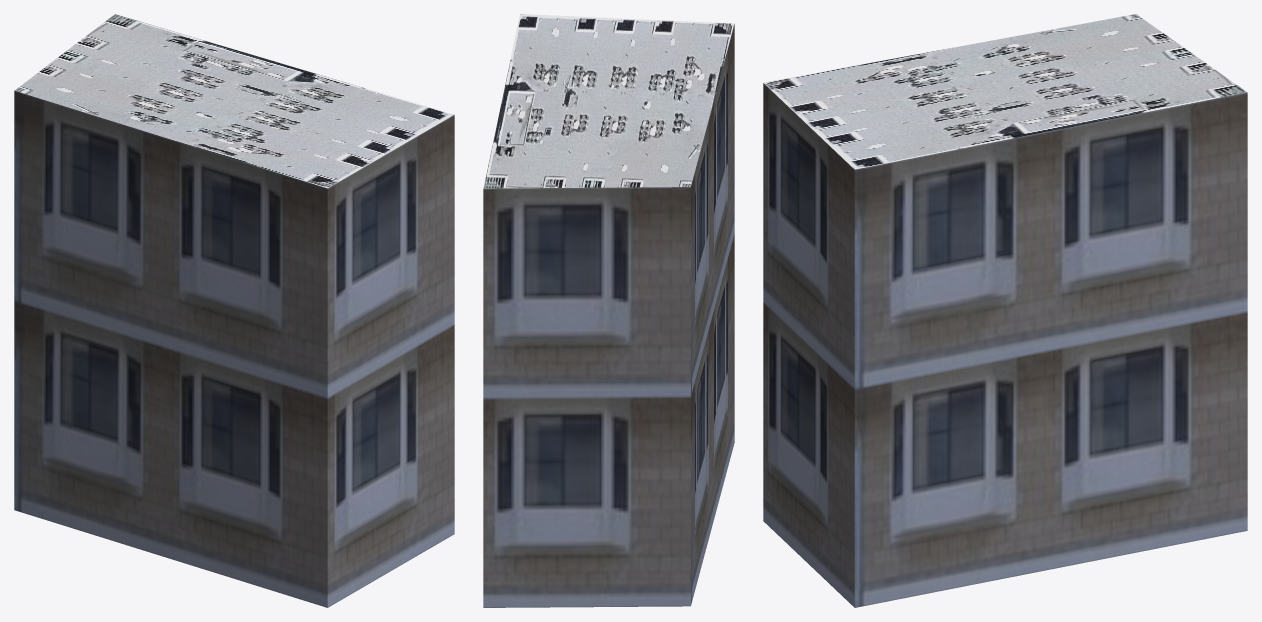
File: ResTex__2518.fbx
The picture shows the model from 3 angles, left to right: view 1: azimuth 30°, elevation 25°; view 2: azimuth 150°, elevation 25°; view 3: azimuth 270°, elevation 25°; orthographic projection. The views are drawn at different scales.
Parts seen in each view (by area): view 1: CityEngineMaterial_3_m, CityEngineMaterial_m; view 2: CityEngineMaterial_3_m, CityEngineMaterial_m; view 3: CityEngineMaterial_3_m, CityEngineMaterial_m.
Boxes of the visible parts, left/top/right/bottom form: CityEngineMaterial_3_m: left=14, top=90, right=454, bottom=607; CityEngineMaterial_m: left=15, top=14, right=453, bottom=188; CityEngineMaterial_3_m: left=483, top=24, right=734, bottom=607; CityEngineMaterial_m: left=483, top=14, right=734, bottom=188; CityEngineMaterial_3_m: left=763, top=83, right=1247, bottom=607; CityEngineMaterial_m: left=763, top=14, right=1247, bottom=169.
Bounding box in the file's own units: 4.57 × 6 × 6.01.
2 materials, 2 textured.
